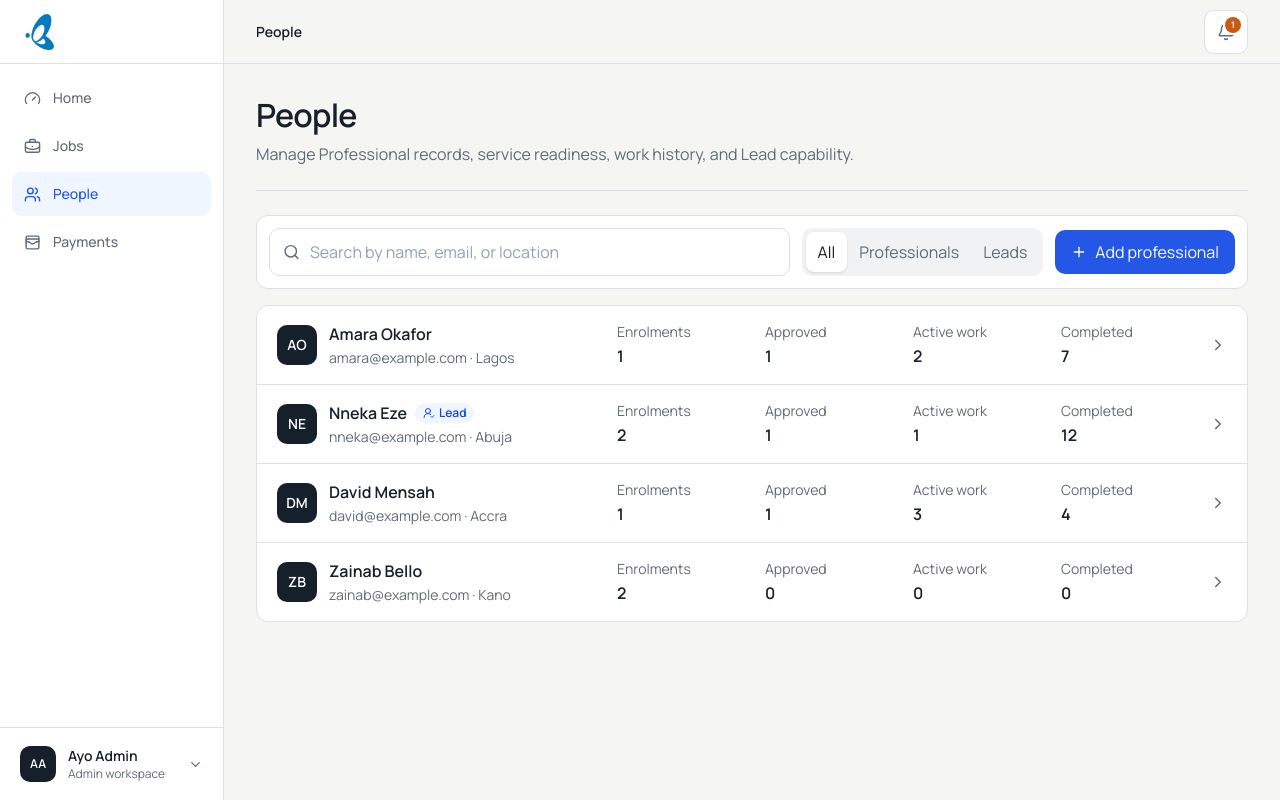
Test case: application routing › filters People by Lead capability
This screenshot has width=1280, height=800.
Step 1. Click the button "Leads" → [1005, 252], box [971,232,1039,272]
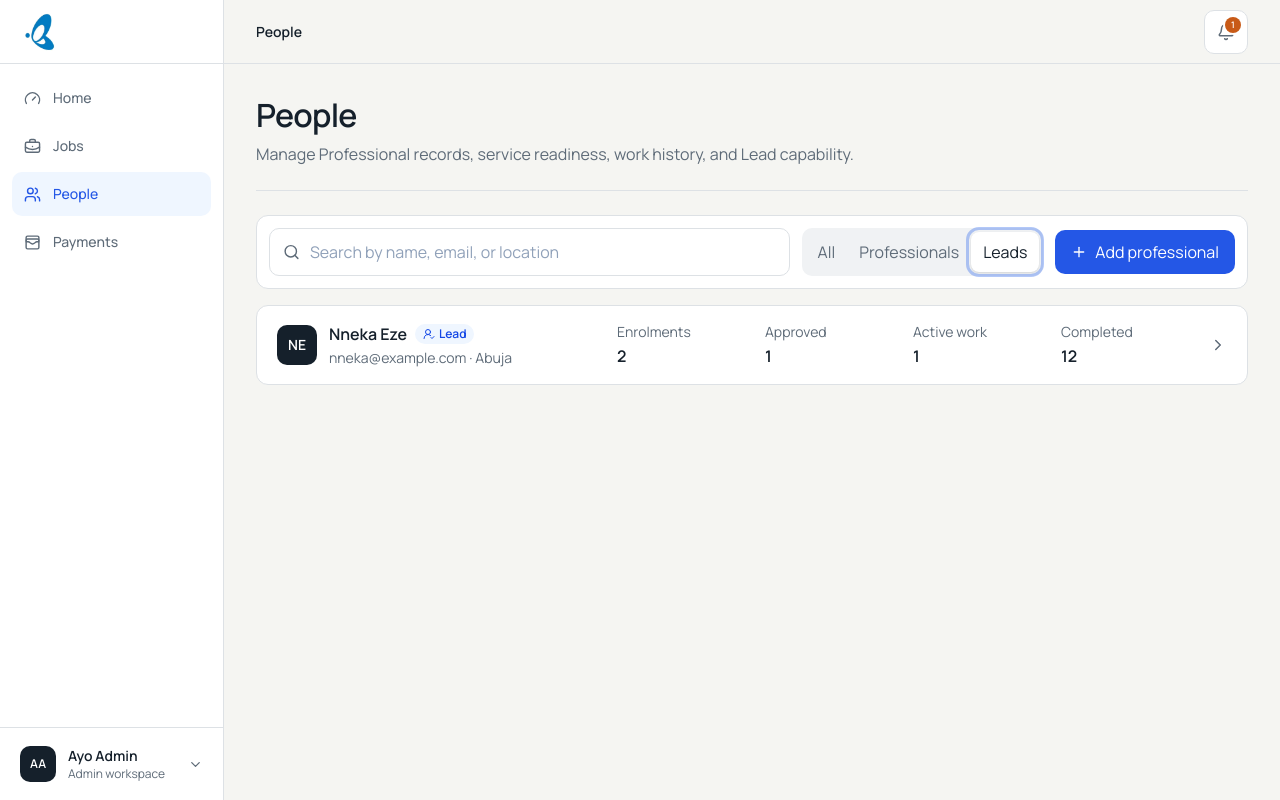
Expected: the text "Nneka Eze" is shown, [329,322,407,346]
Expected: the link "Amara Okafor" is gone
